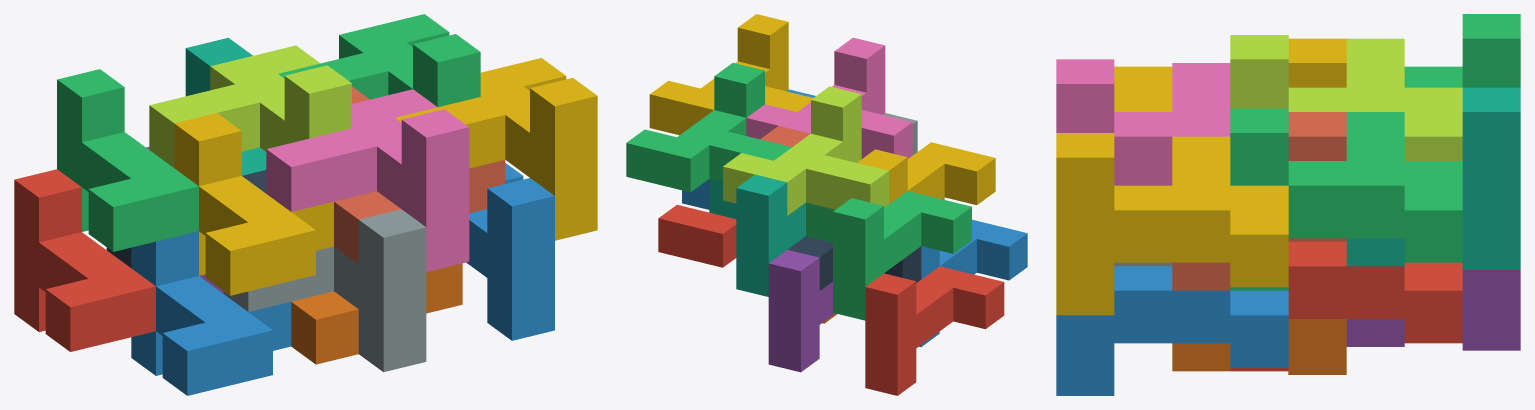
Rendered from tiling.obj.
3 renders of one model, left to right at view 1: azimuth 30°, elevation 25°; view 2: azimuth 150°, elevation 25°; view 3: azimuth 270°, elevation 25°, orthographic. The views are drawn at different scales.
Parts seen in each view (by area): view 1: copy_2_domain_4, copy_1_domain_1, copy_2_domain_8, copy_1_domain_3, copy_1_domain_4, copy_1_domain_2, copy_2_domain_2, copy_2_domain_3, copy_2_domain_6, copy_2_domain_7, copy_1_domain_6, copy_1_domain_8 (+2 smaller); view 2: copy_1_domain_3, copy_1_domain_1, copy_2_domain_3, copy_2_domain_7, copy_2_domain_4, copy_2_domain_8, copy_1_domain_7, copy_1_domain_5, copy_1_domain_4, copy_1_domain_2, copy_2_domain_5, copy_2_domain_1 (+2 smaller); view 3: copy_2_domain_8, copy_2_domain_7, copy_2_domain_6, copy_2_domain_3, copy_2_domain_4, copy_2_domain_5, copy_1_domain_7, copy_1_domain_5, copy_1_domain_4, copy_1_domain_3, copy_1_domain_6, copy_1_domain_8.
Boxes of the visible parts, <box> form: copy_2_domain_4: <box>266,89,469,271</box>; copy_1_domain_1: <box>14,169,155,351</box>; copy_2_domain_8: <box>395,58,597,240</box>; copy_1_domain_3: <box>57,69,198,251</box>; copy_1_domain_4: <box>174,113,333,295</box>; copy_1_domain_2: <box>131,231,291,395</box>; copy_2_domain_2: <box>223,209,426,372</box>; copy_2_domain_3: <box>149,45,351,167</box>; copy_2_domain_6: <box>466,163,554,340</box>; copy_2_domain_7: <box>278,14,480,106</box>; copy_1_domain_6: <box>291,263,462,364</box>; copy_1_domain_8: <box>334,86,505,263</box>; copy_1_domain_3: <box>806,191,971,320</box>; copy_1_domain_1: <box>865,266,1004,395</box>; copy_2_domain_3: <box>723,86,888,215</box>; copy_2_domain_7: <box>626,63,791,192</box>; copy_2_domain_4: <box>746,37,912,158</box>; copy_2_domain_8: <box>649,14,812,135</box>; copy_1_domain_7: <box>709,174,805,296</box>; copy_1_domain_5: <box>768,250,834,372</box>; copy_1_domain_4: <box>857,142,995,204</box>; copy_1_domain_2: <box>919,219,1027,346</box>; copy_2_domain_5: <box>658,205,736,267</box>; copy_2_domain_1: <box>787,236,921,290</box>; copy_2_domain_8: <box>1056,133,1288,315</box>; copy_2_domain_7: <box>1230,108,1462,290</box>; copy_2_domain_6: <box>1056,266,1288,395</box>; copy_2_domain_3: <box>1230,35,1462,160</box>; copy_2_domain_4: <box>1056,59,1230,185</box>; copy_2_domain_5: <box>1230,241,1462,371</box>; copy_1_domain_7: <box>1346,87,1520,269</box>; copy_1_domain_5: <box>1346,270,1520,350</box>; copy_1_domain_4: <box>1114,38,1346,111</box>; copy_1_domain_3: <box>1404,14,1520,87</box>; copy_1_domain_6: <box>1172,319,1346,374</box>; copy_1_domain_8: <box>1172,112,1346,290</box>.
Bounding box in the file's own units: 11 × 6 × 8.
